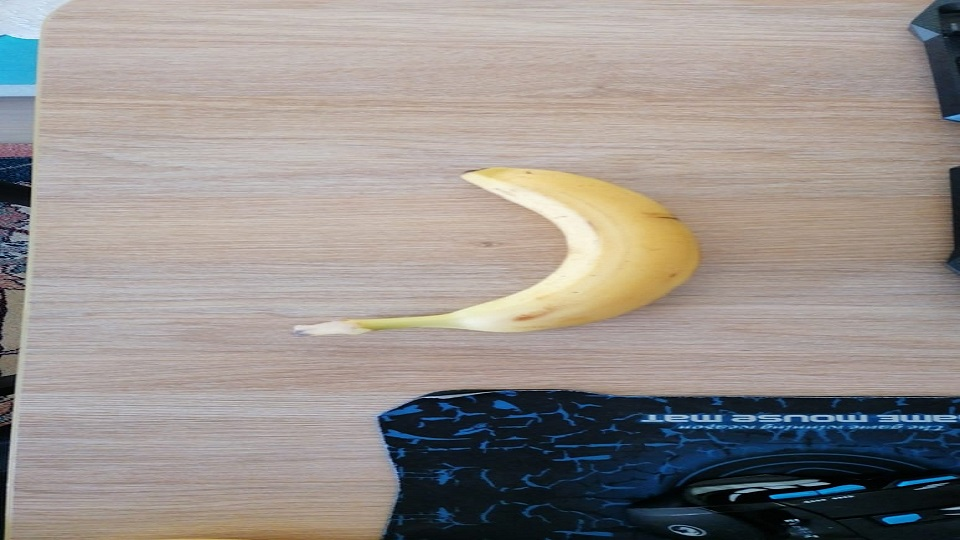muz: (297, 165, 701, 340)
